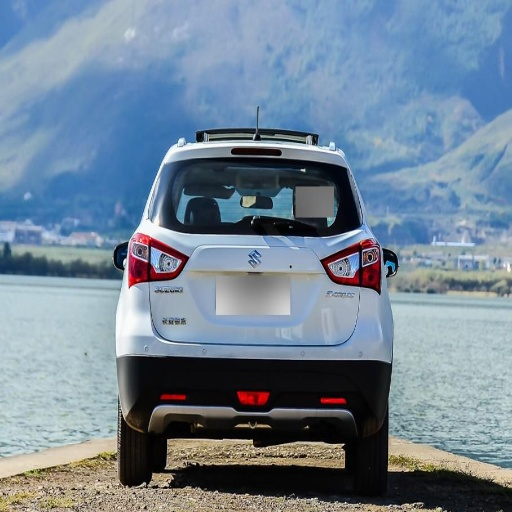back_bumper: (115, 286, 394, 431)
trunk: (135, 228, 366, 345)
